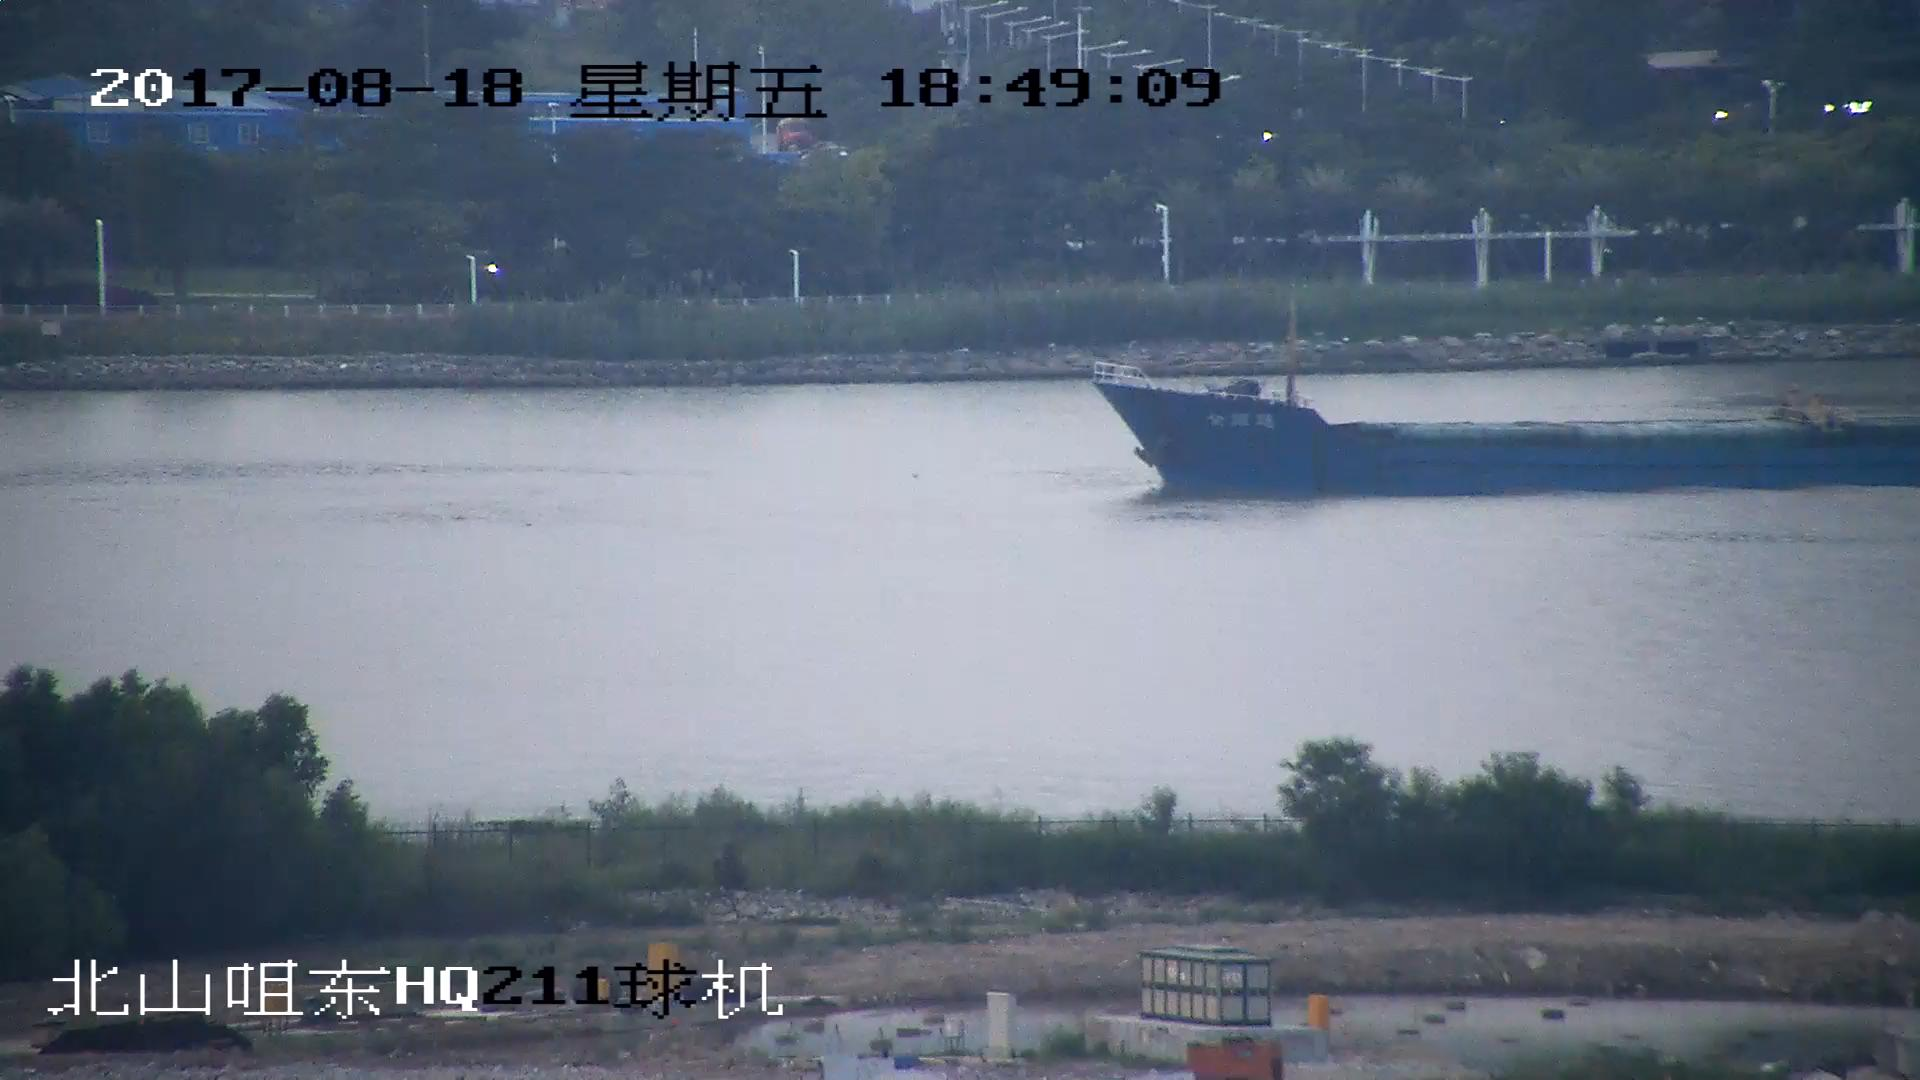general cargo ship: (1093, 363, 1920, 497)
